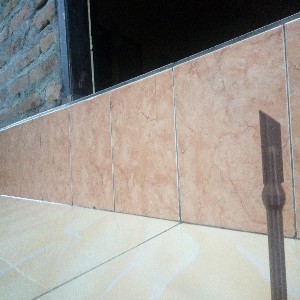cutter: (257, 109, 288, 300)
